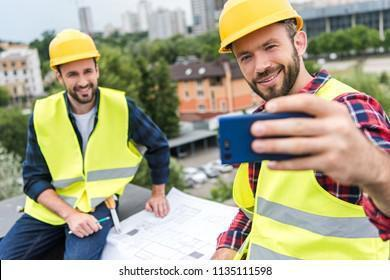helmet: (217, 0, 302, 54), (49, 28, 101, 71)
